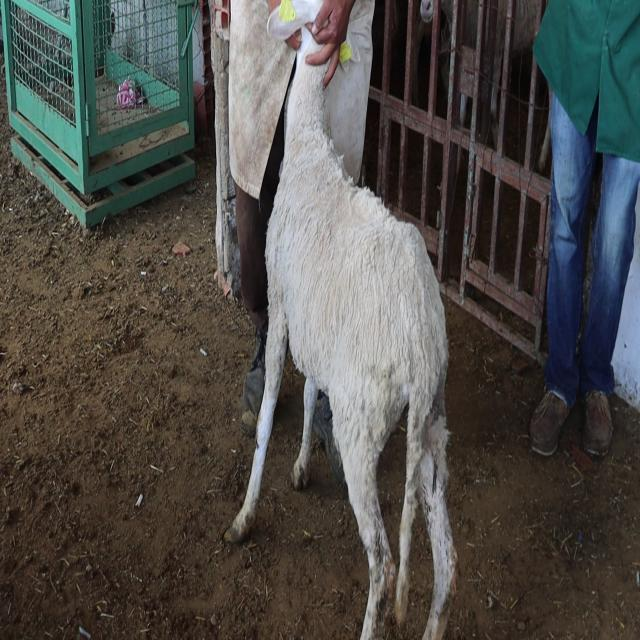Score_1: (228, 0, 457, 639)
